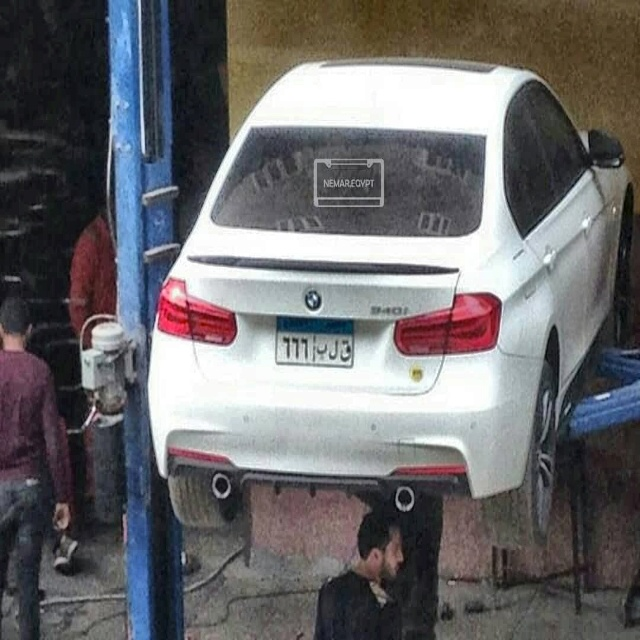License Plate: (271, 314, 357, 372)
